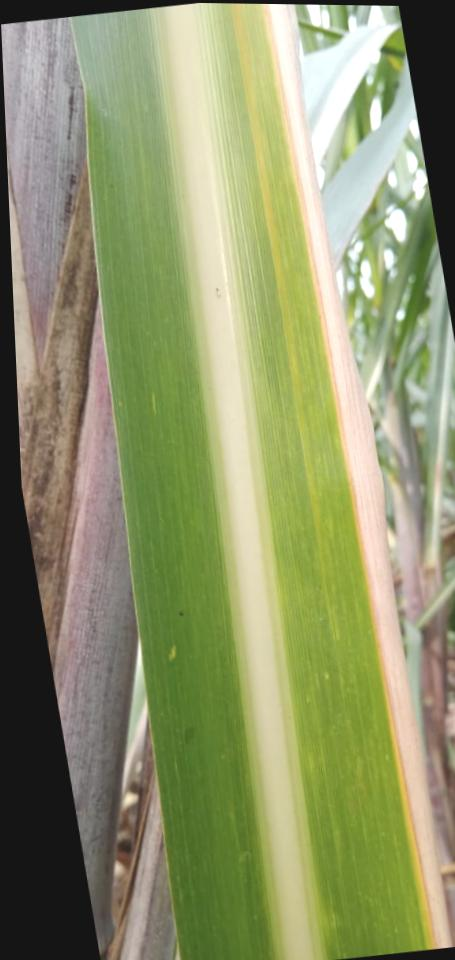Yellow: (259, 4, 452, 949)
